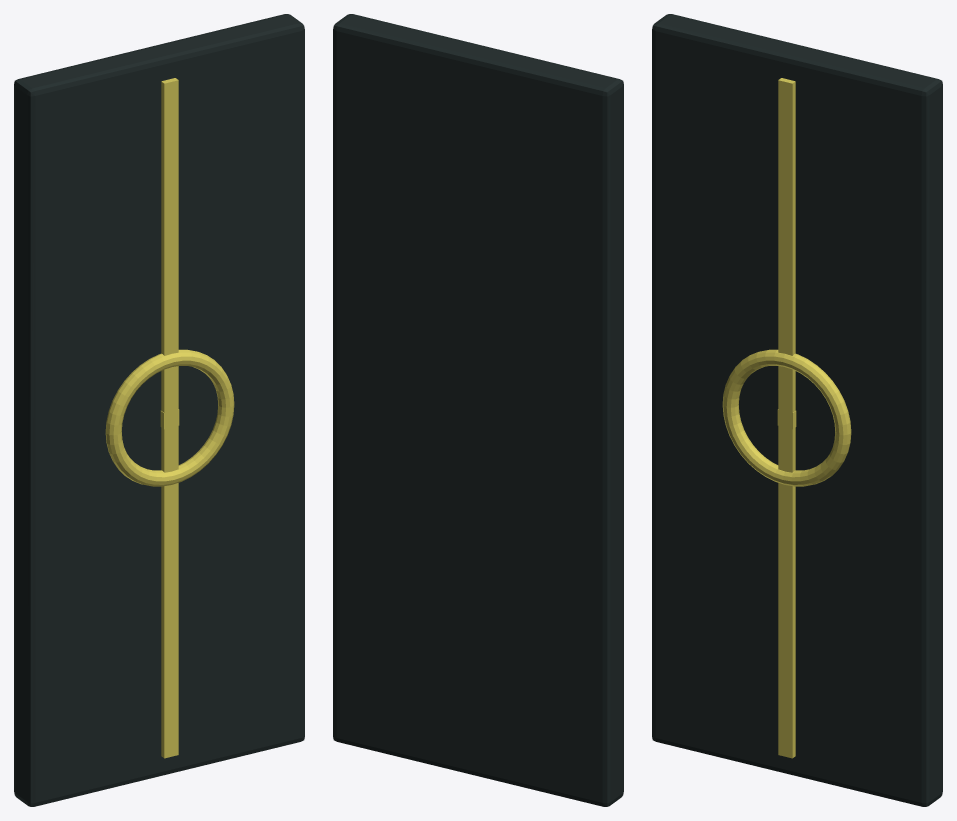
File: CircleDoor_panel.glb
The picture shows the model from 3 angles, left to right: view 1: azimuth 30°, elevation 25°; view 2: azimuth 150°, elevation 25°; view 3: azimuth 330°, elevation 25°; orthographic projection.
Parts seen in each view (by area): view 1: CircleDoor_panel.001; view 2: CircleDoor_panel.001; view 3: CircleDoor_panel.001.
Boxes of the visible parts, x1=… form: CircleDoor_panel.001: x1=14, y1=14, x2=304, y2=806; CircleDoor_panel.001: x1=333, y1=14, x2=623, y2=806; CircleDoor_panel.001: x1=652, y1=14, x2=942, y2=806.
Bounding box in the file's own units: 0.54 × 1.34 × 0.079.
